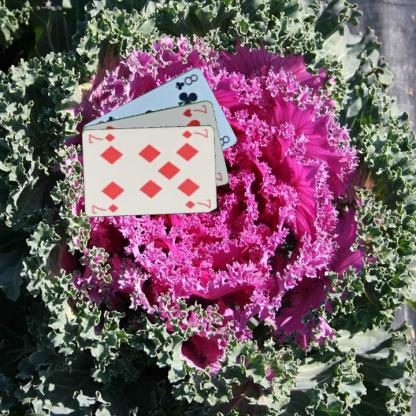7d: (180, 126, 209, 140), (90, 202, 119, 214)
7h: (180, 102, 208, 118)
8c: (173, 71, 199, 91)
